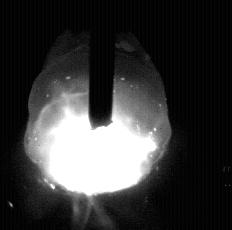arame: (89, 0, 114, 129)
poca: (23, 0, 170, 230)
